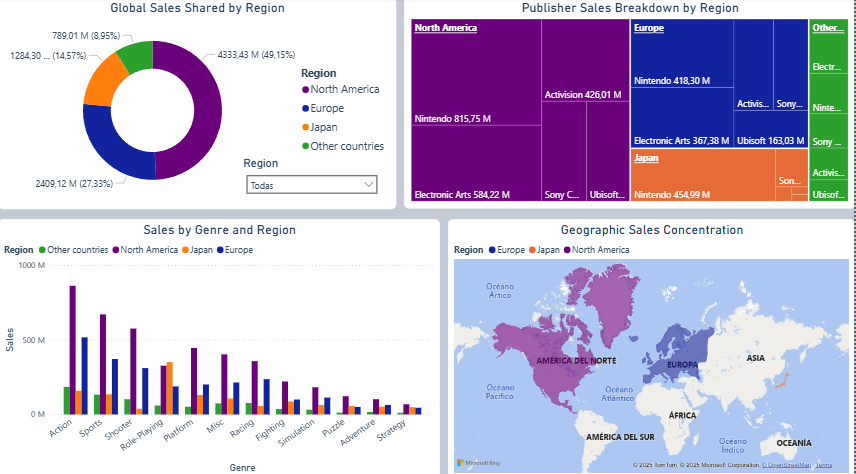

The dashboard page shown, as its layout file describes it:
{"tool":"powerbi","page":{"name":"Regional Breakdown","canvas":[1280,720],"ordinal":2},"visuals":[{"type":"treemap","title":"Publisher Sales Breakdown by Region","fields":{"Values":["Sum(2 video game sales.Valor)"],"Group":["2 video game sales.region"],"Details":["2 video game sales.publisher"]},"box":[609.5,12,655.8,304.7],"z":0},{"type":"filledMap","title":"Geographic Sales Concentration","fields":{"Category":["sales trends.region"],"Series":["sales trends.region"]},"box":[672.2,331.6,593,374.9],"z":1000},{"type":"donutChart","title":" Global Sales Shared by Region","fields":{"Y":["Sum(2 video game sales.sales)"],"Category":["2 video game sales.region"]},"box":[10.5,12,584.1,304.7],"z":2000},{"type":"slicer","title":"Region","fields":{"Values":["2 video game sales.region"]},"box":[385.4,249.5,209.1,67.2],"z":3000},{"type":"clusteredColumnChart","title":"Sales by Genre and Region","fields":{"Category":["2 video game sales.genre"],"Y":["Sum(2 video game sales.Valor)"],"Series":["2 video game sales.region"]},"box":[10.5,331.6,649.8,374.9],"z":4000}]}

Visuals, with their boxes in screenshot pixels (x1, y1, x2, y2), scaled from the page's 1280x720 canvas onto the 856x474 screenshot:
"Publisher Sales Breakdown by Region" treemap: [x1=408, y1=8, x2=846, y2=208]
"Geographic Sales Concentration" filledMap: [x1=450, y1=218, x2=846, y2=465]
" Global Sales Shared by Region" donutChart: [x1=7, y1=8, x2=398, y2=208]
"Region" slicer: [x1=258, y1=164, x2=398, y2=208]
"Sales by Genre and Region" clusteredColumnChart: [x1=7, y1=218, x2=442, y2=465]
